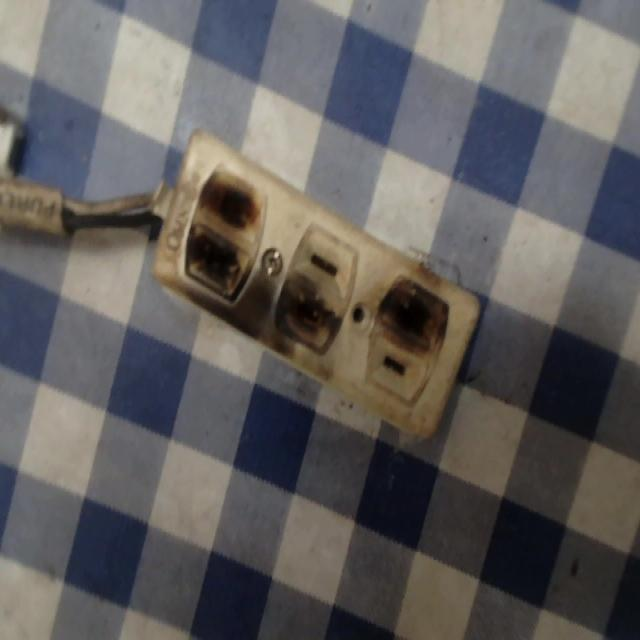-: (176, 160, 268, 309), (371, 257, 452, 360), (270, 276, 342, 364)
